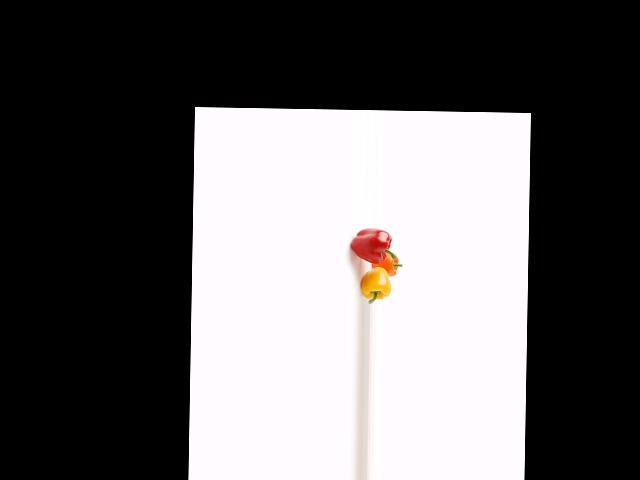bell_pepper: (346, 226, 400, 265)
